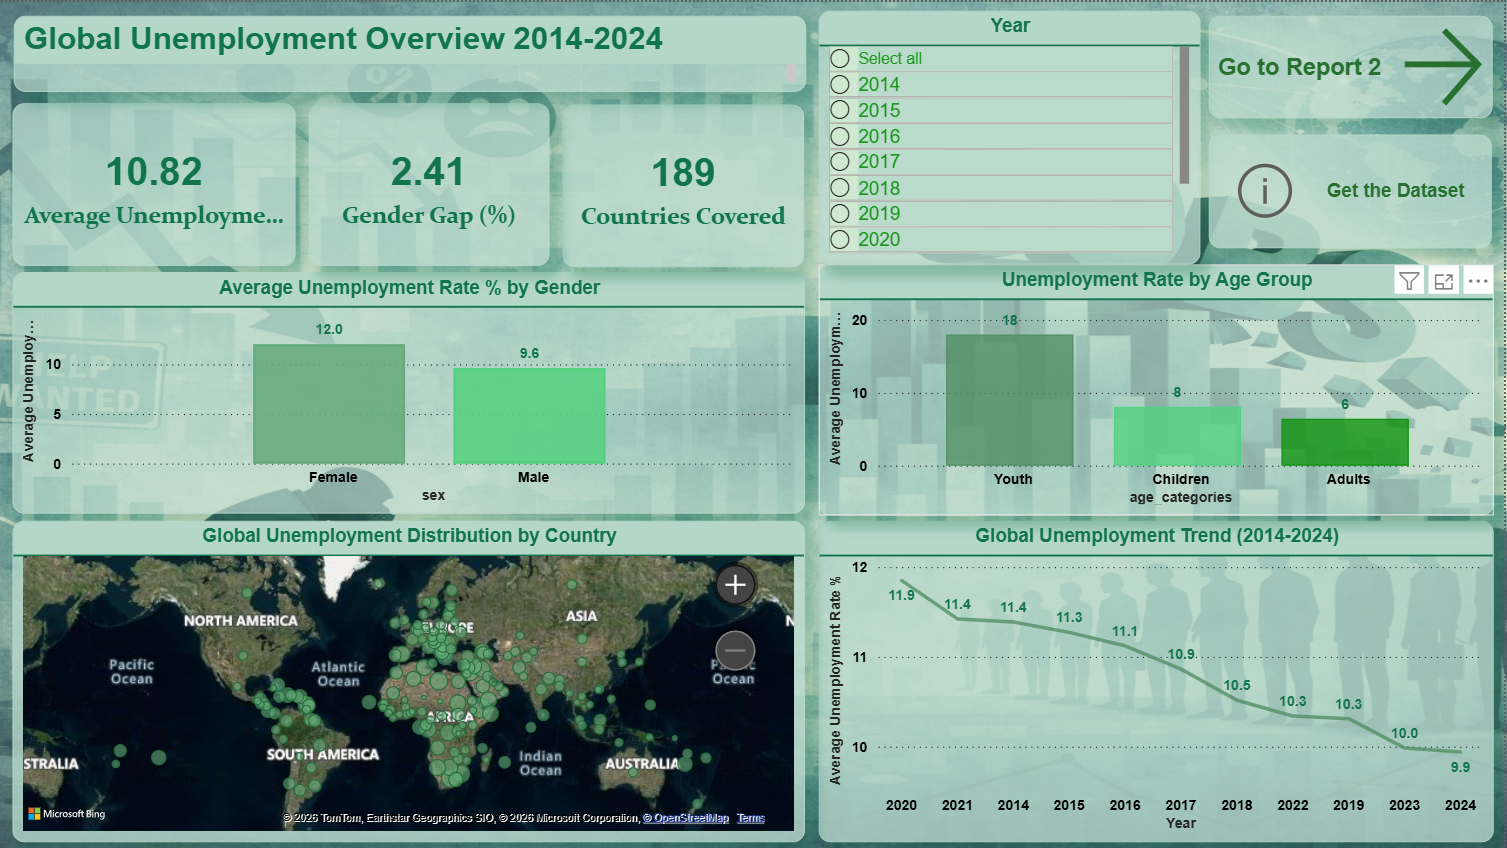

The dashboard page shown, as its layout file describes it:
{"tool":"powerbi","page":{"name":"Global Unemployment Overview (2014-2024)","canvas":[1280,720],"ordinal":0},"visuals":[{"type":"card","fields":{"Values":["global_unemployment_data.Average Unemployment Rate"]},"box":[10.5,86,240.7,138.4],"z":0},{"type":"lineChart","title":"Global Unemployment Trend (2014-2024)","fields":{"Category":["global_unemployment_data.Year"],"Y":["global_unemployment_data.Average Unemployment Rate"]},"box":[696.5,441.9,574.4,273.3],"z":1000},{"type":"clusteredColumnChart","title":"Average Unemployment Rate % by Gender","fields":{"Category":["global_unemployment_data.sex"],"Y":["global_unemployment_data.Average Unemployment Rate"]},"box":[10.5,230.2,674.4,205.8],"z":2000},{"type":"map","title":"Global Unemployment Distribution by Country","fields":{"Category":["global_unemployment_data.country_name"],"Size":["global_unemployment_data.Average Unemployment Rate"]},"box":[10.5,441.9,674.4,273.3],"z":3000},{"type":"card","fields":{"Values":["global_unemployment_data.Countries Covered"]},"box":[479.1,87.2,205.8,138.4],"z":4000},{"type":"card","fields":{"Values":["global_unemployment_data.Gender Gap (%)"]},"box":[262.8,86,204.7,138.4],"z":5000},{"type":"textbox","title":"Global Unemployment Overview 2014-2024","box":[11.6,11.6,674.4,65.1],"z":6000},{"type":"clusteredColumnChart","title":"Unemployment Rate  by Age Group","fields":{"Category":["global_unemployment_data.age_categories"],"Y":["global_unemployment_data.Average Unemployment Rate %"]},"box":[696.5,223.3,574.4,214],"z":7000},{"type":"listSlicer","fields":{"Values":["global_unemployment_data.Year"]},"box":[696.5,7,324.4,216.3],"z":8000},{"type":"actionButton","box":[1029.1,11.6,241.9,87.2],"z":9000},{"type":"actionButton","box":[1029.1,112.8,240.7,96.5],"z":10000}]}

Visuals, with their boxes in screenshot pixels (x1, y1, x2, y2), scaled from the page's 1280x720 canvas onto the 1507x848 screenshot:
card - global_unemployment_data.Average Unemployment Rate: (left=12, top=101, right=296, bottom=264)
"Global Unemployment Trend (2014-2024)" lineChart: (left=820, top=520, right=1496, bottom=842)
"Average Unemployment Rate % by Gender" clusteredColumnChart: (left=12, top=271, right=806, bottom=514)
"Global Unemployment Distribution by Country" map: (left=12, top=520, right=806, bottom=842)
card - global_unemployment_data.Countries Covered: (left=564, top=103, right=806, bottom=266)
card - global_unemployment_data.Gender Gap (%): (left=309, top=101, right=550, bottom=264)
"Global Unemployment Overview 2014-2024" textbox: (left=14, top=14, right=808, bottom=90)
"Unemployment Rate  by Age Group" clusteredColumnChart: (left=820, top=263, right=1496, bottom=515)
listSlicer - global_unemployment_data.Year: (left=820, top=8, right=1202, bottom=263)
actionButton: (left=1212, top=14, right=1496, bottom=116)
actionButton: (left=1212, top=133, right=1495, bottom=247)
